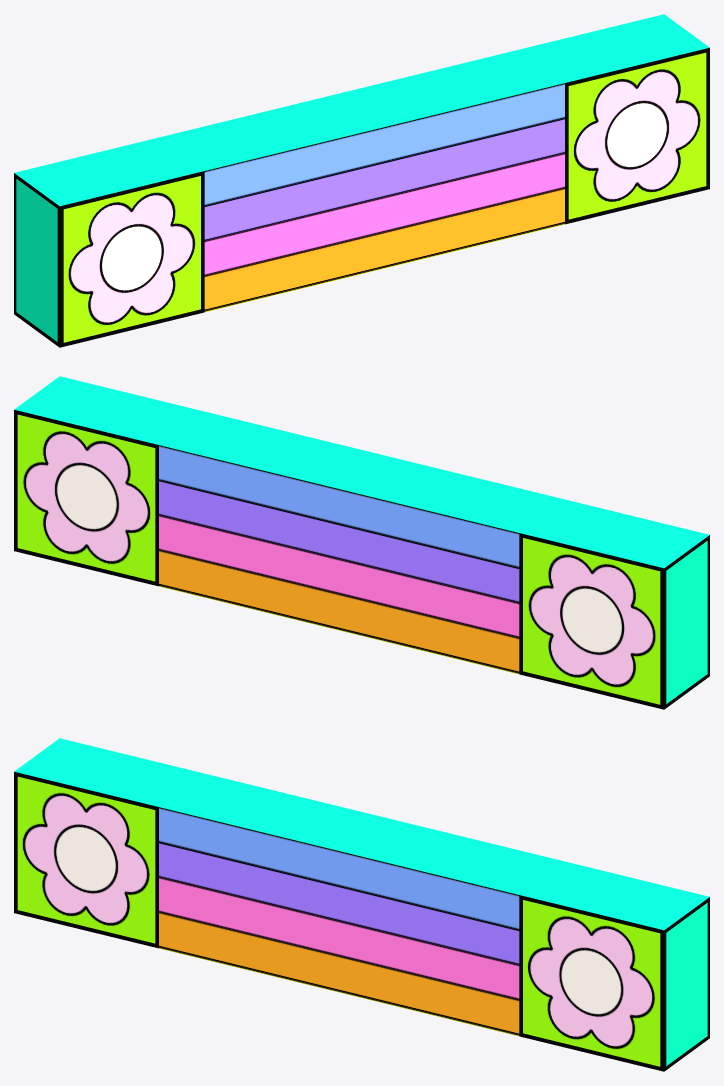
Rendered from cocobay_small_border.gltf.
The picture shows the model from 3 angles, top to bottom: view 1: azimuth 30°, elevation 25°; view 2: azimuth 150°, elevation 25°; view 3: azimuth 330°, elevation 25°; orthographic projection.
Parts seen in each view (by area): view 1: cocobay_small_border_glb; view 2: cocobay_small_border_glb; view 3: cocobay_small_border_glb.
Part boxes in pixels (<box>): cocobay_small_border_glb: <box>14,14,709,347</box>; cocobay_small_border_glb: <box>14,376,709,709</box>; cocobay_small_border_glb: <box>14,738,709,1071</box>.
Size of what is drawn, in the model's own units: 2.27 by 0.4726 by 0.2771.
Materials: 1 (1 with a texture image).
